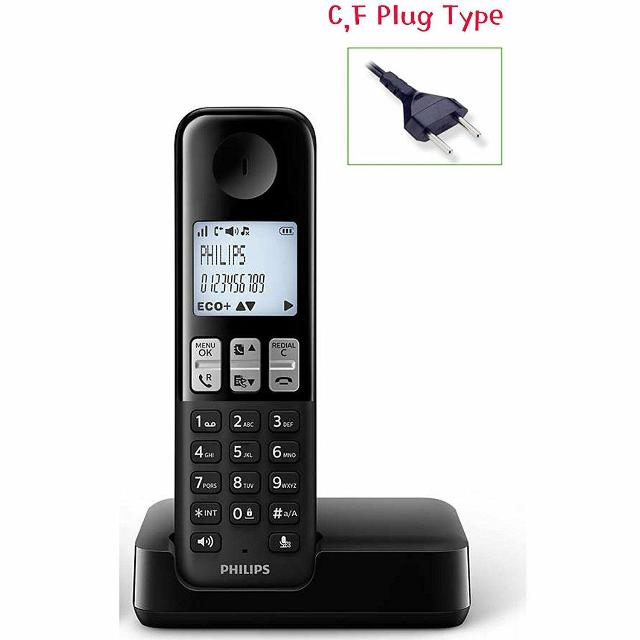Telephone-Set: (118, 99, 446, 637)
